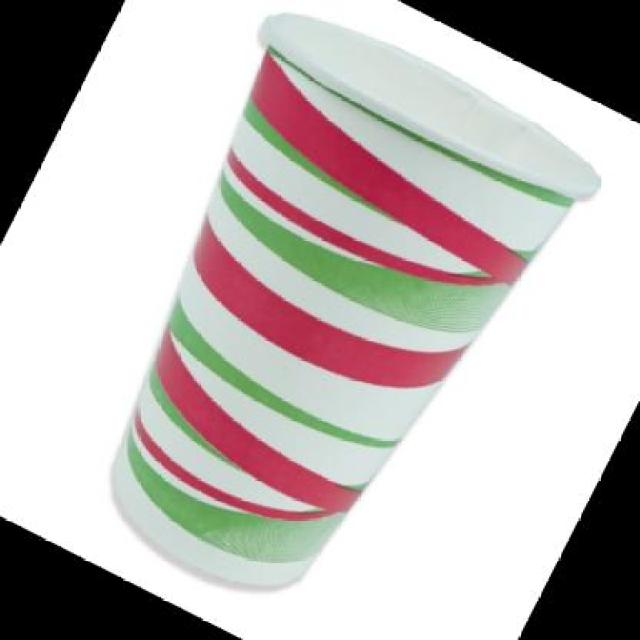non-biodegradable: (6, 0, 617, 640)
